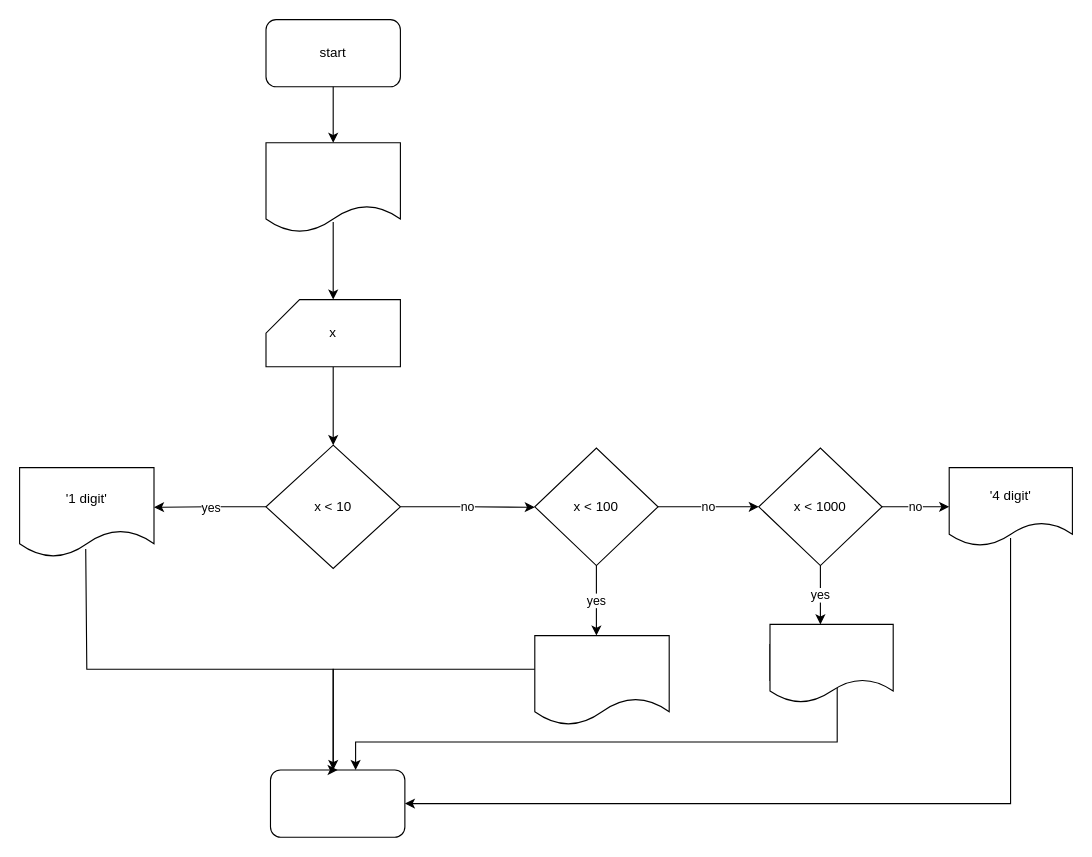
Image size: 1092x857. Some labels were removed from this diagram. Each missing label, with the centre of its shape:
"'2 digit'" goes at (601,679).
"'3 digit'" goes at (831,663).
"'enter a number (0-999):" goes at (332,187).
"stop" goes at (337,803).
